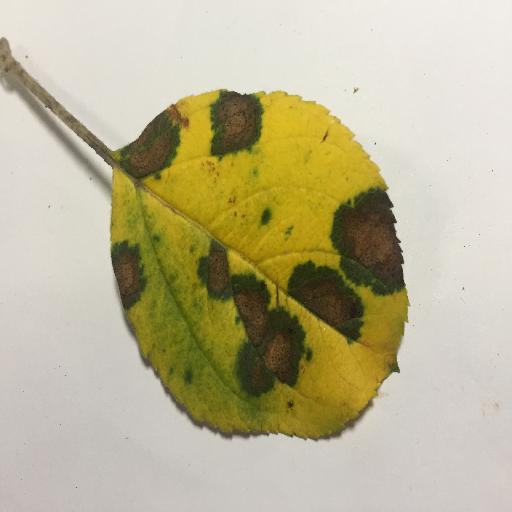Brown_Spot: (197, 258, 301, 389), (330, 199, 402, 293), (290, 269, 356, 341), (119, 114, 182, 177), (206, 91, 262, 150), (118, 236, 147, 304)
